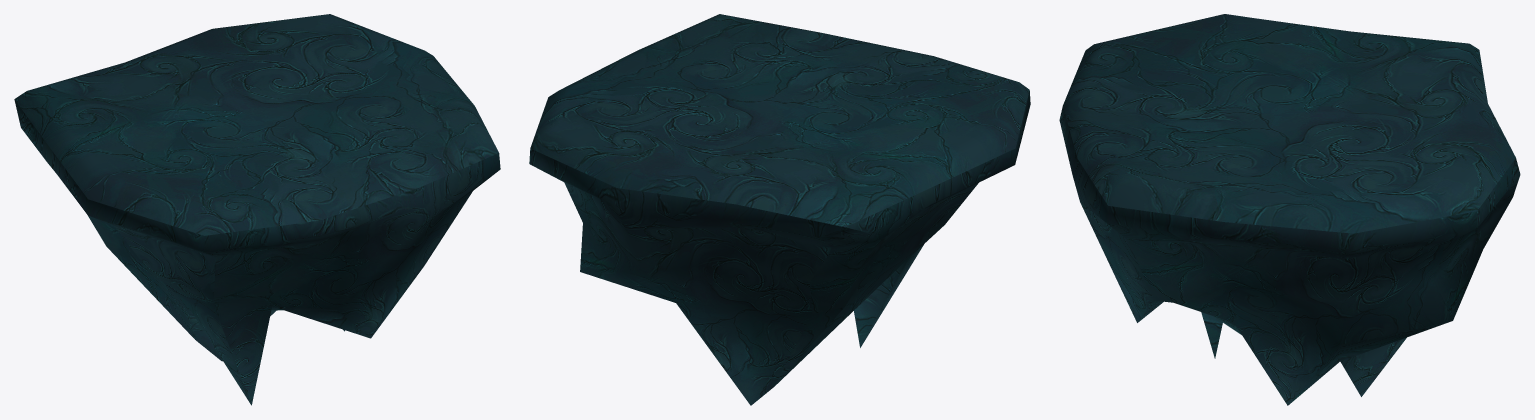
Rendered from SM_Island.FBX.
3 views of the same model, side by side, from view 1: azimuth 30°, elevation 25°; view 2: azimuth 150°, elevation 25°; view 3: azimuth 270°, elevation 25° (orthographic). The views are drawn at different scales.
Parts seen in each view (by area): view 1: SM_Island_Top, SM_Island_Base; view 2: SM_Island_Top, SM_Island_Base; view 3: SM_Island_Top, SM_Island_Base.
Boxes of the visible parts, bbox=[...] form: SM_Island_Top: bbox=[14, 14, 498, 235]; SM_Island_Base: bbox=[14, 99, 500, 405]; SM_Island_Top: bbox=[530, 14, 1029, 227]; SM_Island_Base: bbox=[529, 91, 1030, 405]; SM_Island_Top: bbox=[1063, 14, 1515, 233]; SM_Island_Base: bbox=[1059, 106, 1520, 405].
Size of the model in its own units: 1558 by 1014 by 1449.
Materials: 1 (1 with a texture image).
